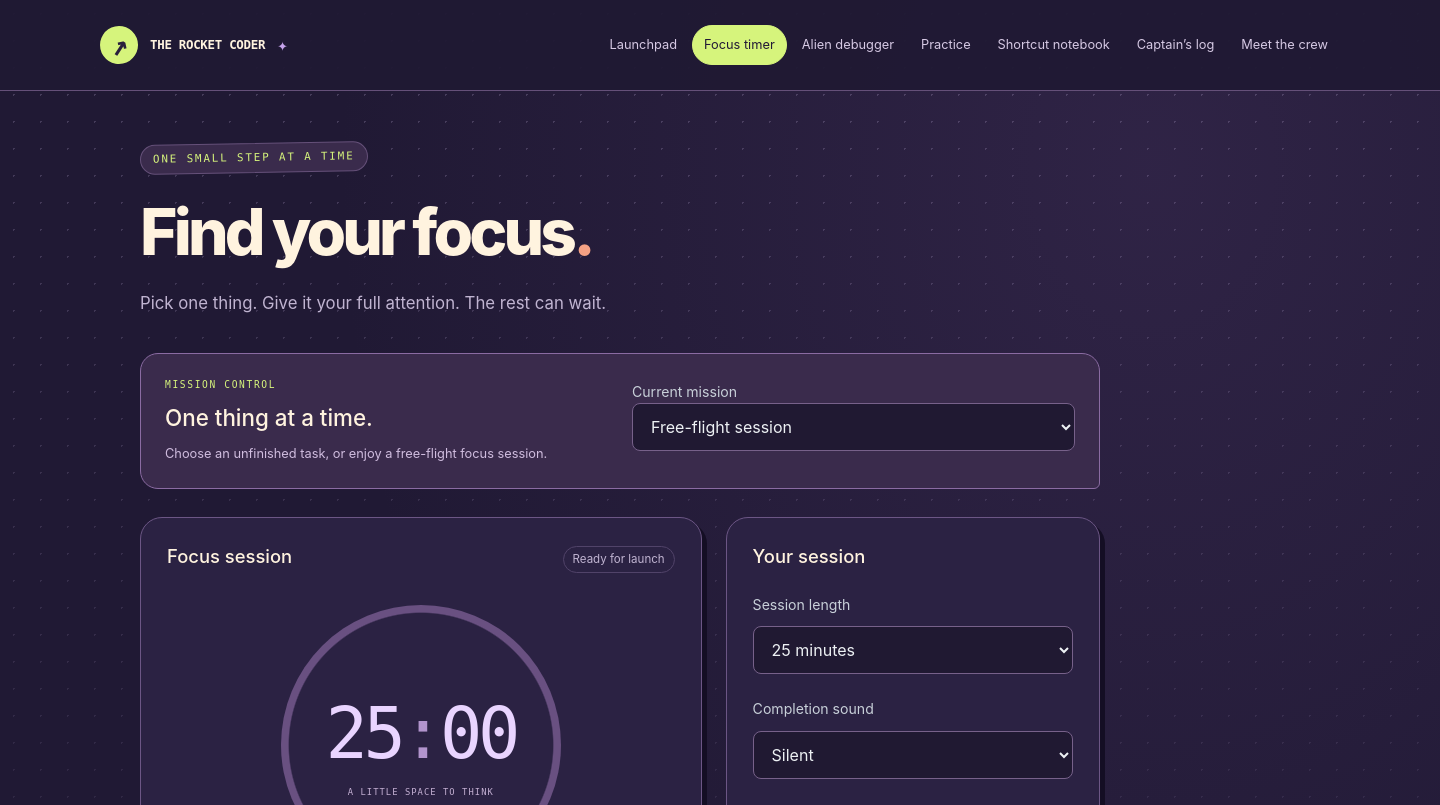
Test: mission can be changed before a session and selection is locked while running
The width and height of the screenshot is (1440, 805).
Select "Second mission" in the dropdown labelled "Current mission" at (854, 427), box top-left (632, 403), bottom-right (1075, 451)
(page scrolled)
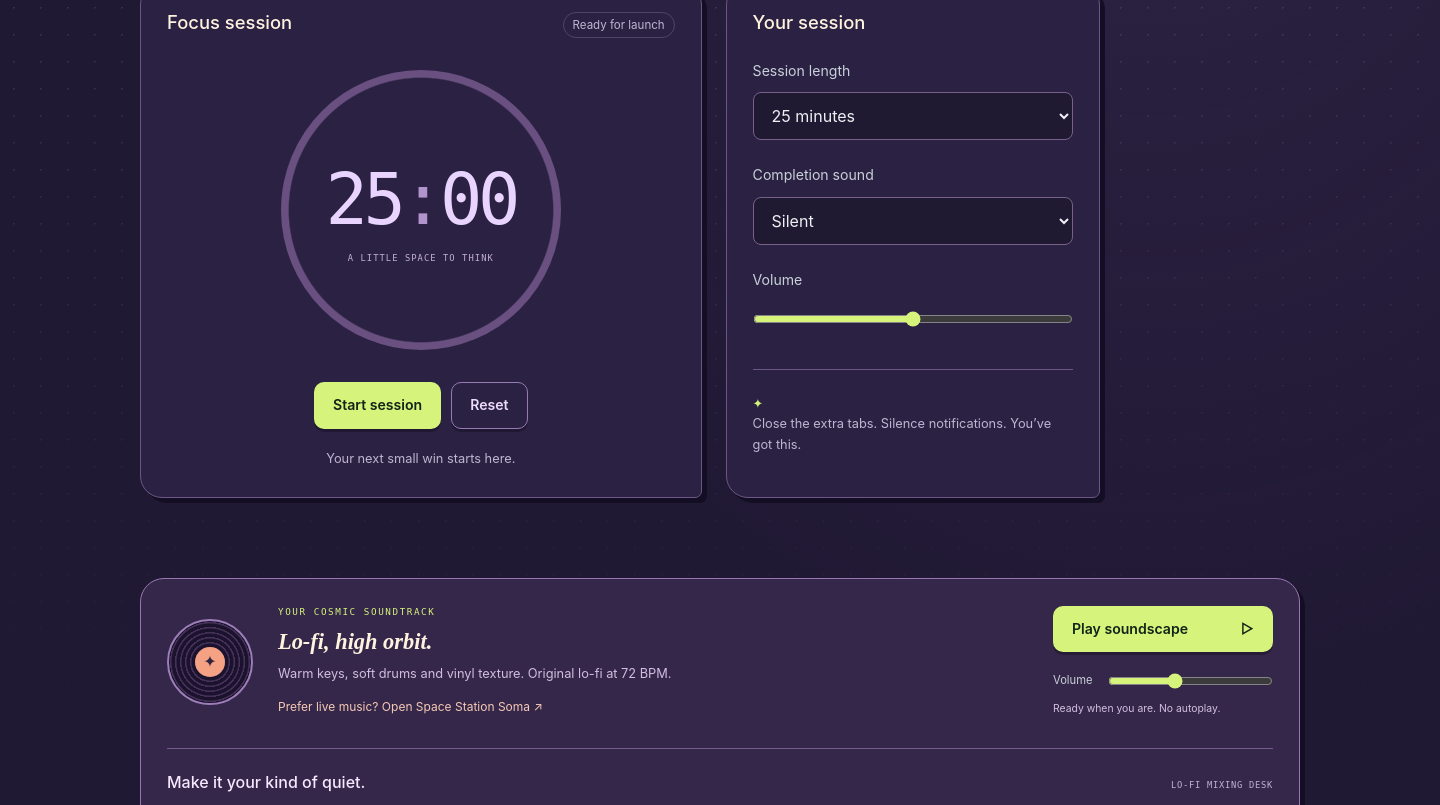
Click the button "Start session".
click(378, 406)  # box top-left (314, 382), bottom-right (441, 429)
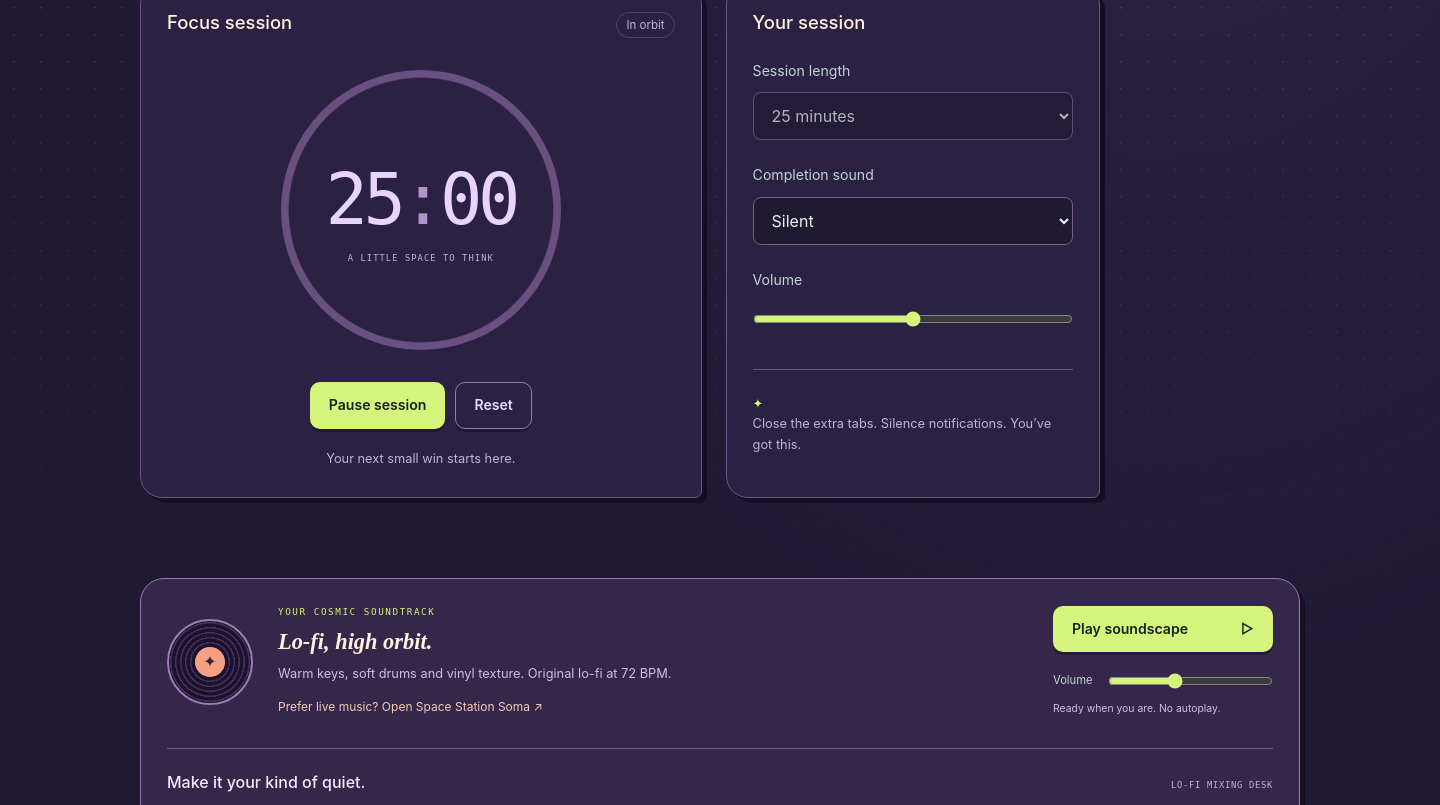
Click the button "Pause session".
click(378, 406)  # box top-left (310, 382), bottom-right (446, 429)
(page scrolled)
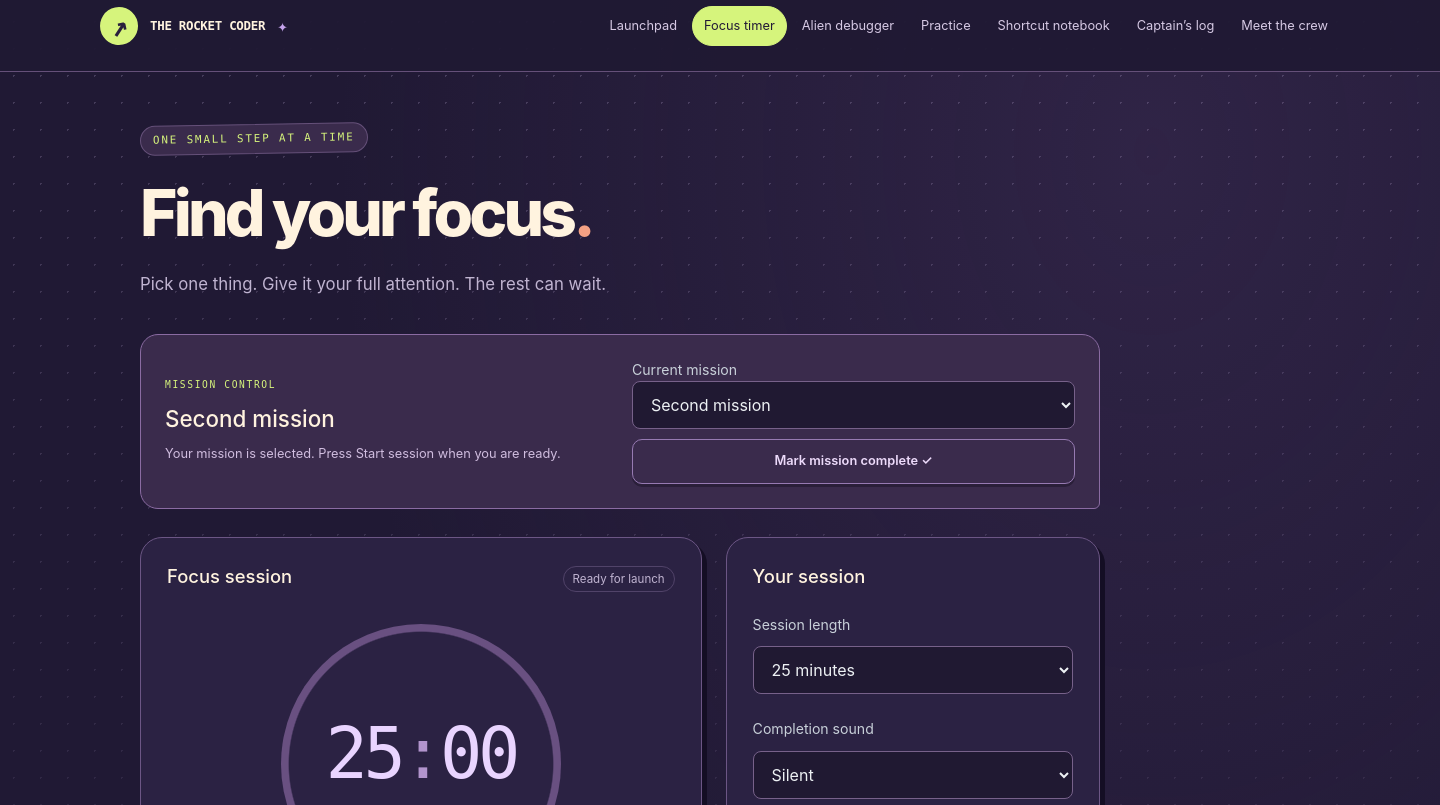
Check: the dropdown labelled "Current mission" is enabled, box top-left (632, 381), bottom-right (1075, 429)
